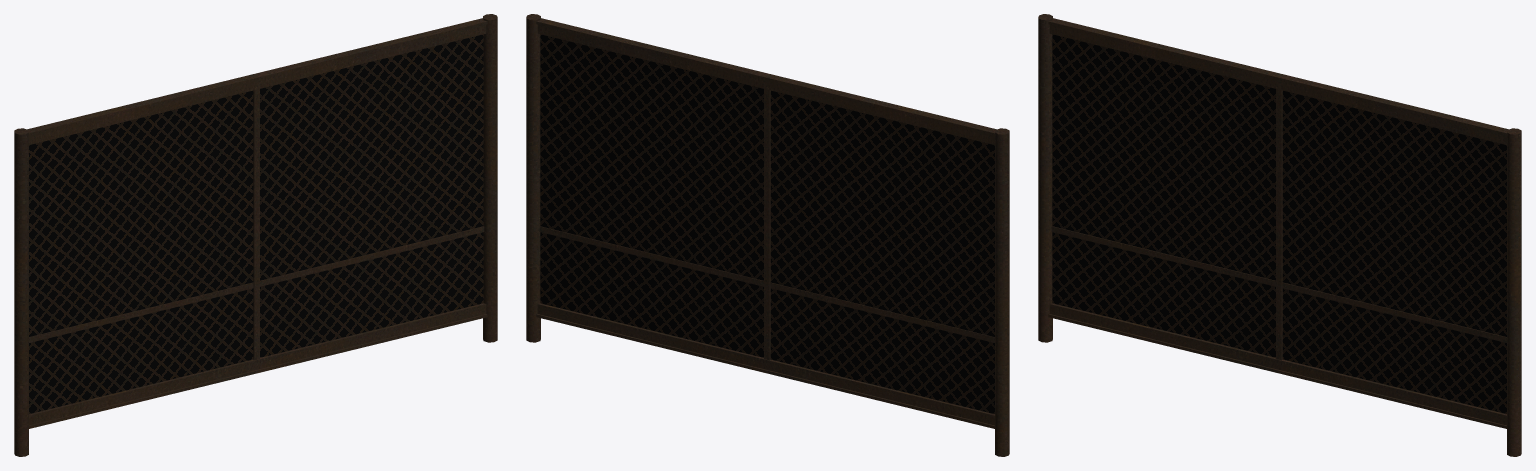
Rendered from fence_e_1.glb.
3 renders of one model, left to right at view 1: azimuth 30°, elevation 25°; view 2: azimuth 150°, elevation 25°; view 3: azimuth 330°, elevation 25°, orthographic.
Parts seen in each view (by area): view 1: fence_e_1; view 2: fence_e_1; view 3: fence_e_1.
Part boxes in pixels (bbox=[...]): fence_e_1: bbox=[14, 14, 497, 456]; fence_e_1: bbox=[526, 14, 1009, 456]; fence_e_1: bbox=[1038, 14, 1521, 456].
Size of the model in its own units: 3.6 by 2.3 by 0.1.
Materials: 2 (2 with a texture image).
